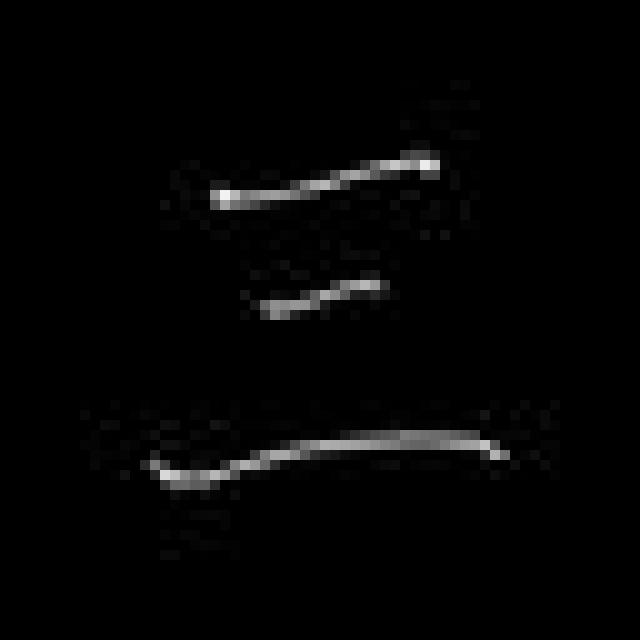3 -three-: (135, 139, 530, 503)
